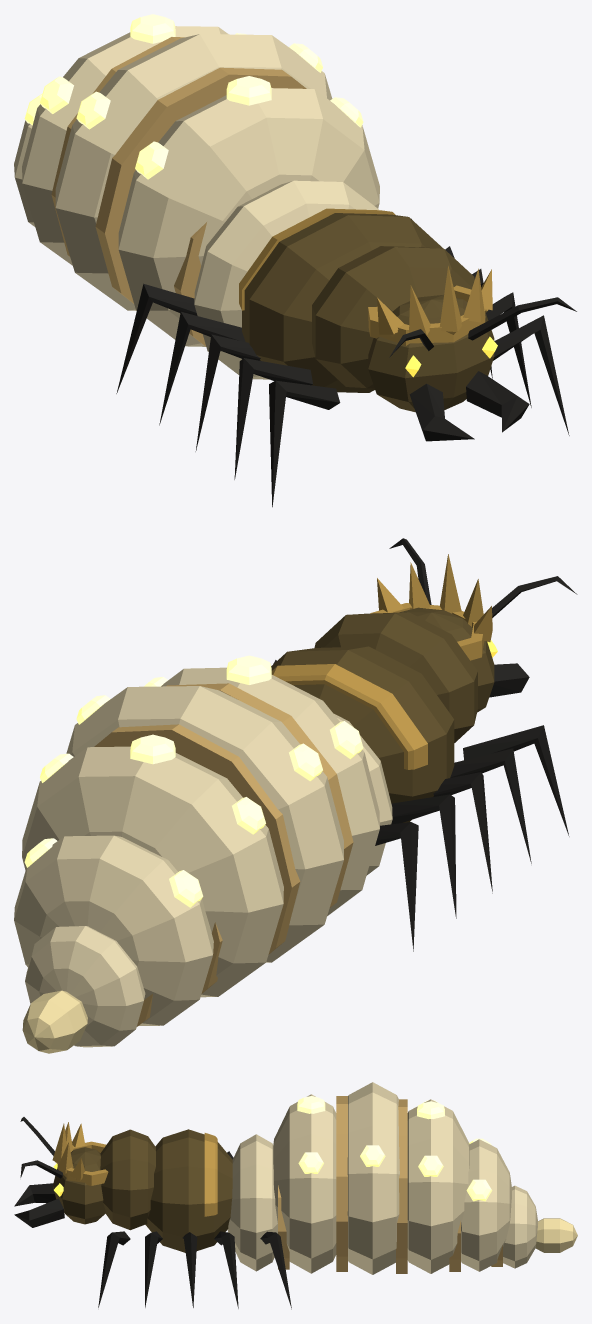
Rendered from HiveMother.fbx.
The picture shows the model from 3 angles, top to bottom: view 1: azimuth 30°, elevation 25°; view 2: azimuth 150°, elevation 25°; view 3: azimuth 270°, elevation 25°; orthographic projection. The views are drawn at different scales.
Parts seen in each view (by area): view 1: EggSac, Thorax, SacBands, LegsR, Crown, Pods, Mandibles, LegsL, Antennae; view 2: EggSac, Thorax, SacBands, LegsR, Crown, Pods, Egg, Antennae, Mandibles; view 3: EggSac, Thorax, SacBands, LegsL, Crown, Pods, Mandibles, Egg, Antennae.
Boxes of the visible parts, x1=… form: EggSac: x1=14, y1=26, x2=379, y2=379; Thorax: x1=242, y1=213, x2=494, y2=412; SacBands: x1=51, y1=37, x2=306, y2=346; LegsR: x1=116, y1=283, x2=340, y2=507; Crown: x1=239, y1=208, x2=492, y2=345; Pods: x1=24, y1=14, x2=363, y2=179; Mandibles: x1=409, y1=371, x2=529, y2=441; LegsL: x1=411, y1=218, x2=569, y2=435; Antennae: x1=389, y1=297, x2=576, y2=357; EggSac: x1=14, y1=667, x2=392, y2=1047; Thorax: x1=271, y1=607, x2=494, y2=822; SacBands: x1=94, y1=683, x2=353, y2=1026; LegsR: x1=375, y1=725, x2=569, y2=951; Crown: x1=271, y1=554, x2=492, y2=769; Pods: x1=24, y1=655, x2=363, y2=907; Egg: x1=22, y1=990, x2=87, y2=1053; Antennae: x1=389, y1=538, x2=577, y2=617; Mandibles: x1=489, y1=663, x2=529, y2=697; EggSac: x1=227, y1=1082, x2=537, y2=1274; Thorax: x1=53, y1=1129, x2=232, y2=1252; SacBands: x1=278, y1=1096, x2=502, y2=1273; LegsL: x1=98, y1=1231, x2=291, y2=1309; Crown: x1=52, y1=1122, x2=217, y2=1216; Pods: x1=297, y1=1084, x2=492, y2=1201; Mandibles: x1=14, y1=1183, x2=64, y2=1227; Egg: x1=535, y1=1218, x2=577, y2=1252; Antennae: x1=20, y1=1117, x2=62, y2=1178.
Bounding box in the file's own units: 6.6 × 5.95 × 17.45.
